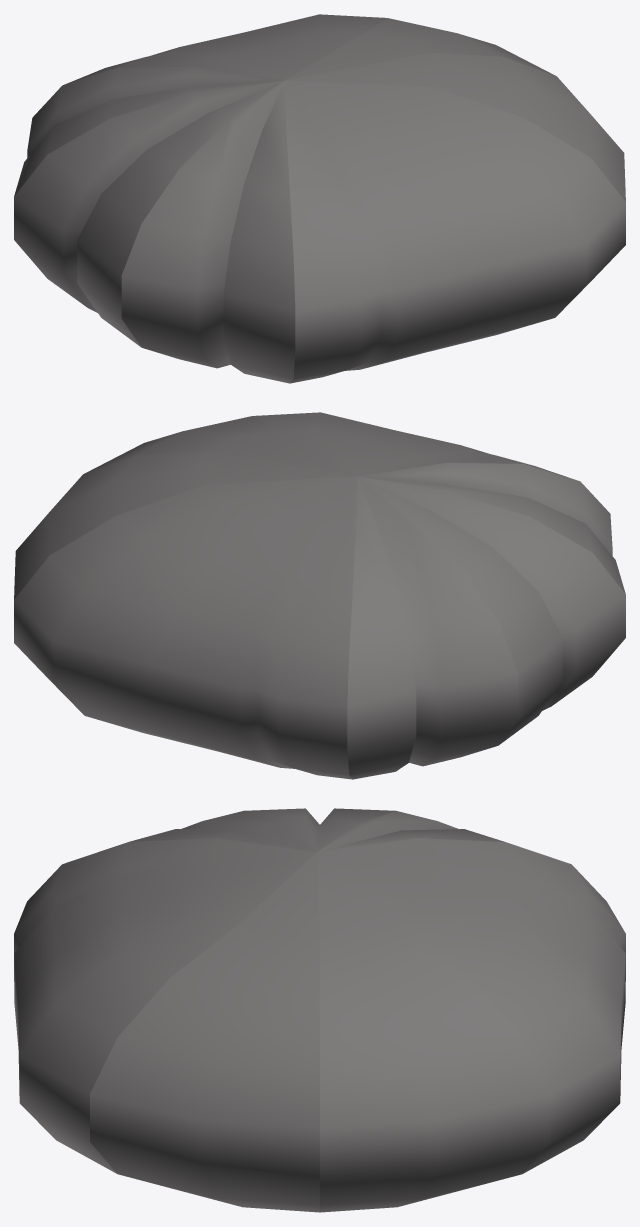
File: Cat paw.fbx
3 views of the same model, one above another, from view 1: azimuth 30°, elevation 25°; view 2: azimuth 150°, elevation 25°; view 3: azimuth 270°, elevation 25° (orthographic). The views are drawn at different scales.
Parts seen in each view (by area): view 1: pSphere25; view 2: pSphere25; view 3: pSphere25.
Boxes of the visible parts, bbox=[...] form: pSphere25: bbox=[14, 14, 625, 383]; pSphere25: bbox=[14, 412, 625, 779]; pSphere25: bbox=[14, 808, 625, 1212].
Bounding box in the file's own units: 1.64 × 0.7309 × 1.52.
